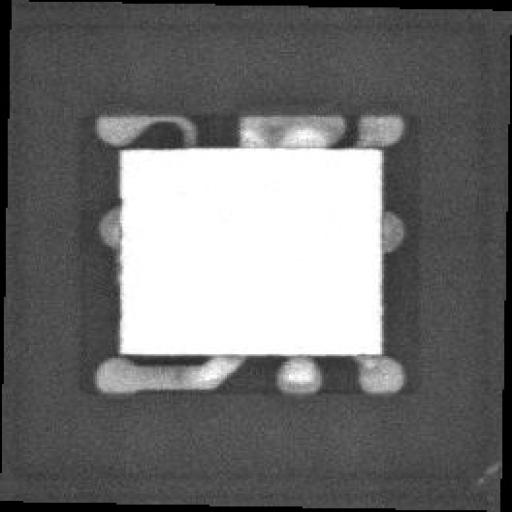DIE_INK: (472, 455, 498, 484)
